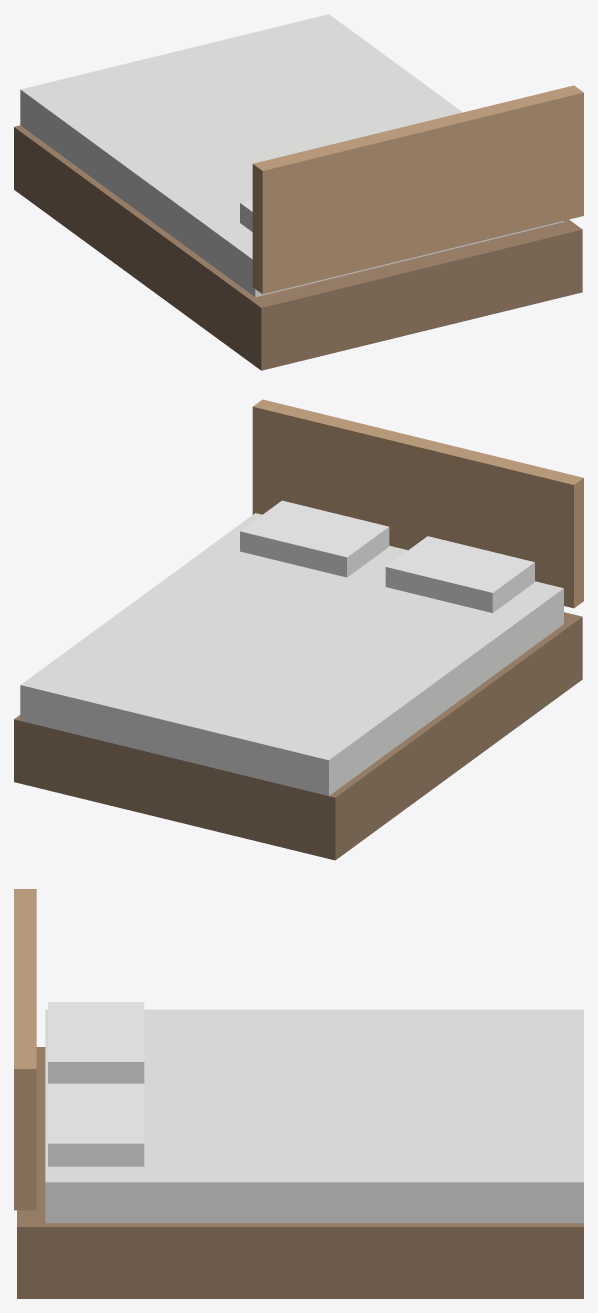
File: bed.glb
3 renders of one model, top to bottom at view 1: azimuth 30°, elevation 25°; view 2: azimuth 150°, elevation 25°; view 3: azimuth 270°, elevation 25°, orthographic. The views are drawn at different scales.
Parts seen in each view (by area): view 1: bed_1, bed_2, bed_0; view 2: bed_1, bed_0, bed_2, bed_3, bed_4; view 3: bed_1, bed_0, bed_4, bed_3, bed_2.
Boxes of the visible parts, <box> form: bed_1: <box>20,14,563,297</box>; bed_2: <box>252,85,583,294</box>; bed_0: <box>14,125,582,370</box>; bed_1: <box>20,513,563,795</box>; bed_0: <box>14,612,582,860</box>; bed_2: <box>252,399,583,608</box>; bed_3: <box>385,536,534,612</box>; bed_4: <box>240,500,389,577</box>; bed_1: <box>45,1009,583,1223</box>; bed_0: <box>17,1047,583,1298</box>; bed_4: <box>48,1083,144,1166</box>; bed_3: <box>48,1002,144,1083</box>; bed_2: <box>14,889,36,1210</box>.
Size of the model in its own units: 1.5 by 0.895 by 2.01.
